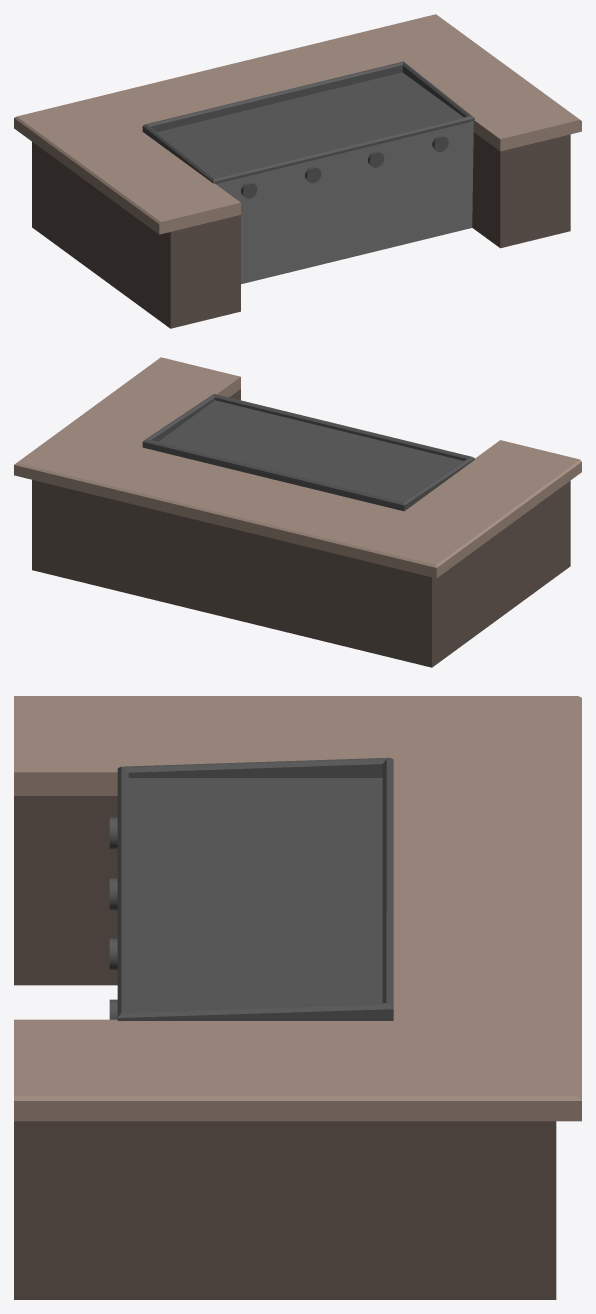
File: HibachiCounter_WithStove.fbx
3 views of the same model, one above another, from view 1: azimuth 30°, elevation 25°; view 2: azimuth 150°, elevation 25°; view 3: azimuth 270°, elevation 25° (orthographic). The views are drawn at different scales.
Parts seen in each view (by area): view 1: Hibachi_Counter:pCube1, pCube1; view 2: Hibachi_Counter:pCube1, pCube1; view 3: Hibachi_Counter:pCube1, pCube1.
Part boxes in pixels (x1=…): Hibachi_Counter:pCube1: x1=14, y1=14, x2=581, y2=328; pCube1: x1=142, y1=61, x2=474, y2=284; Hibachi_Counter:pCube1: x1=14, y1=357, x2=581, y2=667; pCube1: x1=142, y1=394, x2=474, y2=511; Hibachi_Counter:pCube1: x1=14, y1=696, x2=581, y2=1299; pCube1: x1=117, y1=757, x2=393, y2=1020.
Size of the model in its own units: 4.33 by 1.14 by 2.58.
